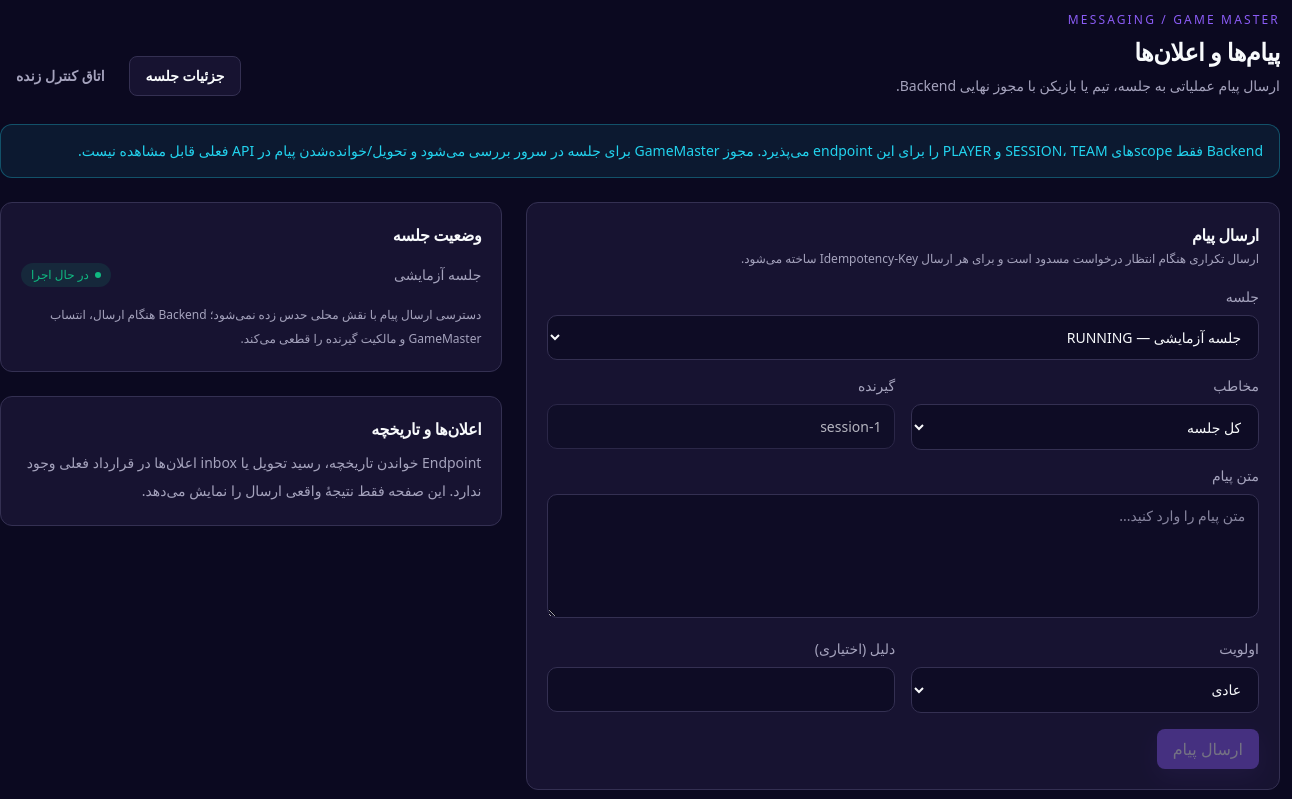
Scenario: messages center › loads only backend-provided team recipients and reports authorization failures
Expected: the text "جلسه آزمایشی" is shown, [394,265,481,285]
Select "تیم" in the dropdown named "نوع مخاطب" at (1085, 427), box [911,404,1259,450]
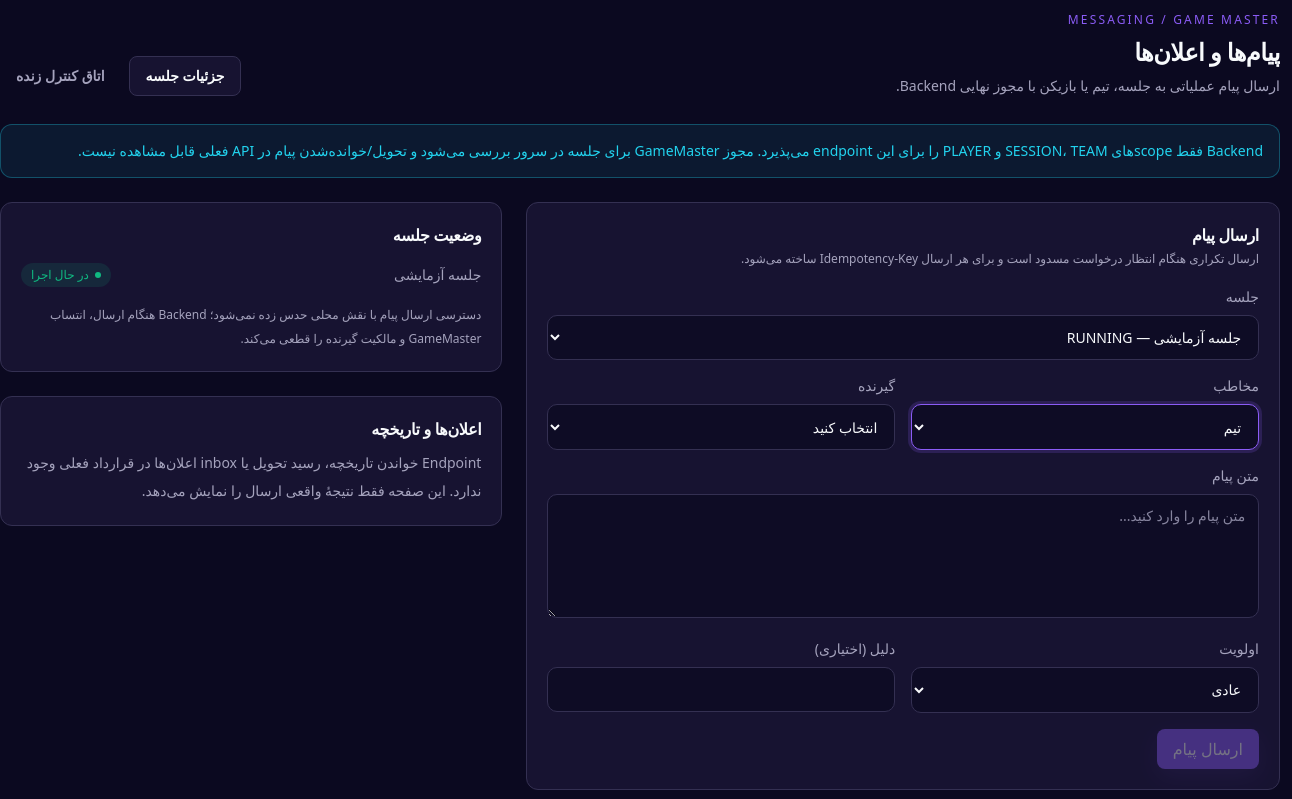
Select "تیم یک" in the dropdown named "گیرنده پیام" at (721, 427), box [547,404,895,450]
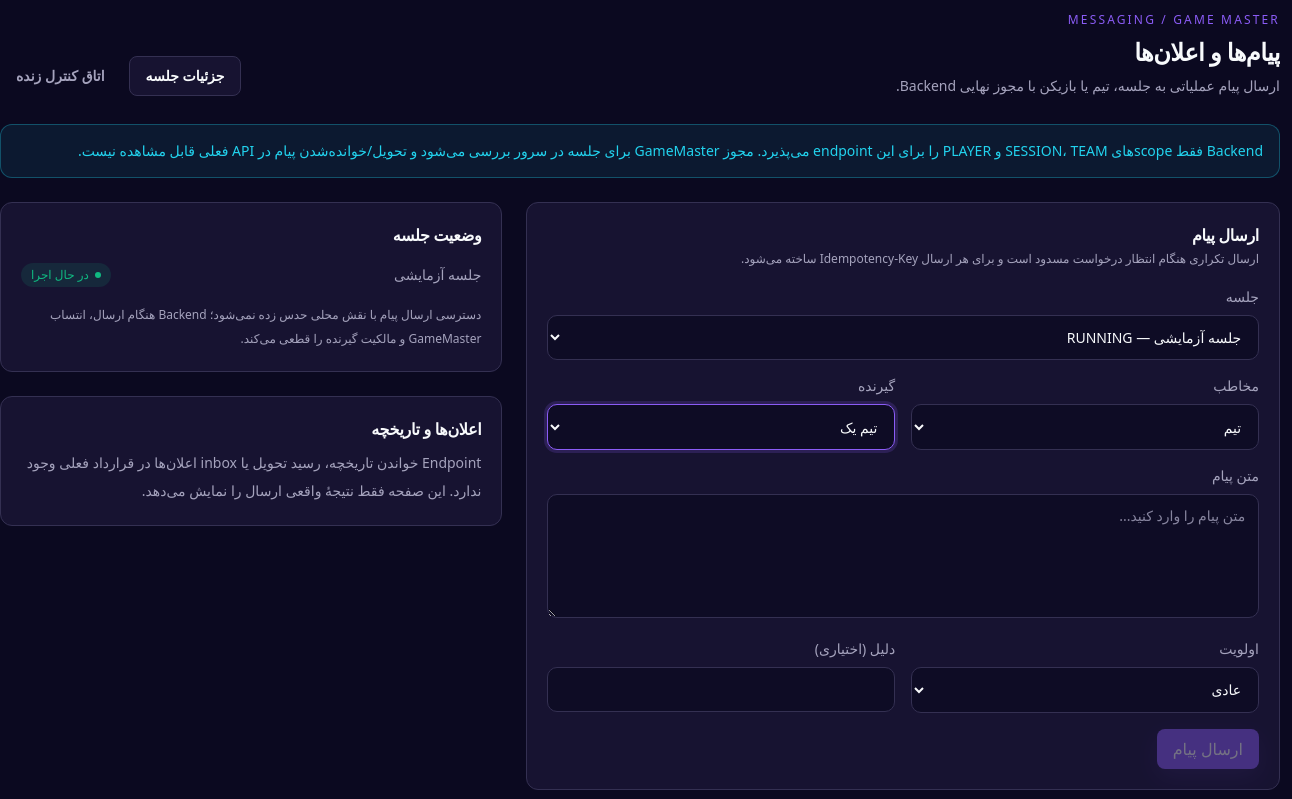
Type "پیام تیم" into the text box labelled "متن پیام" at (903, 556), box [547,494,1259,618]
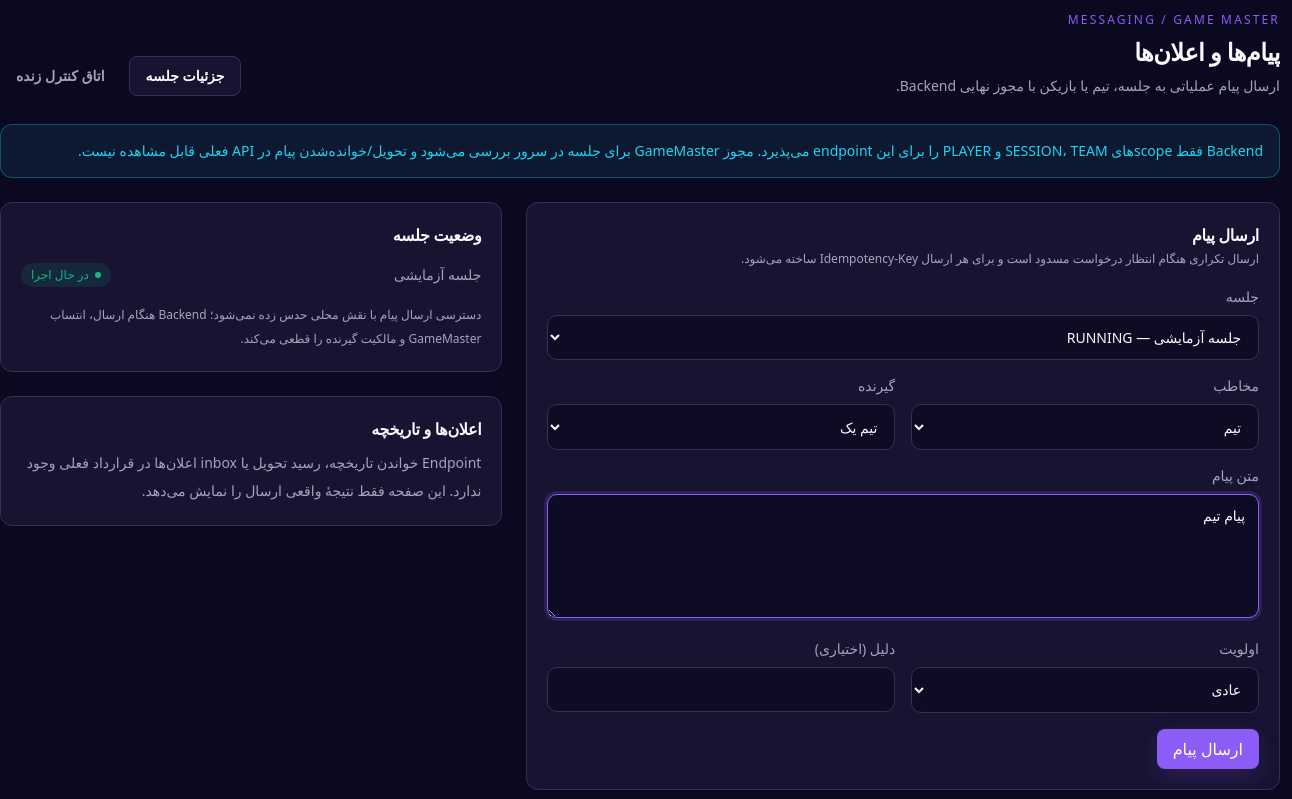
Click the button "ارسال پیام" at (1208, 748), box [1157,728,1259,768]
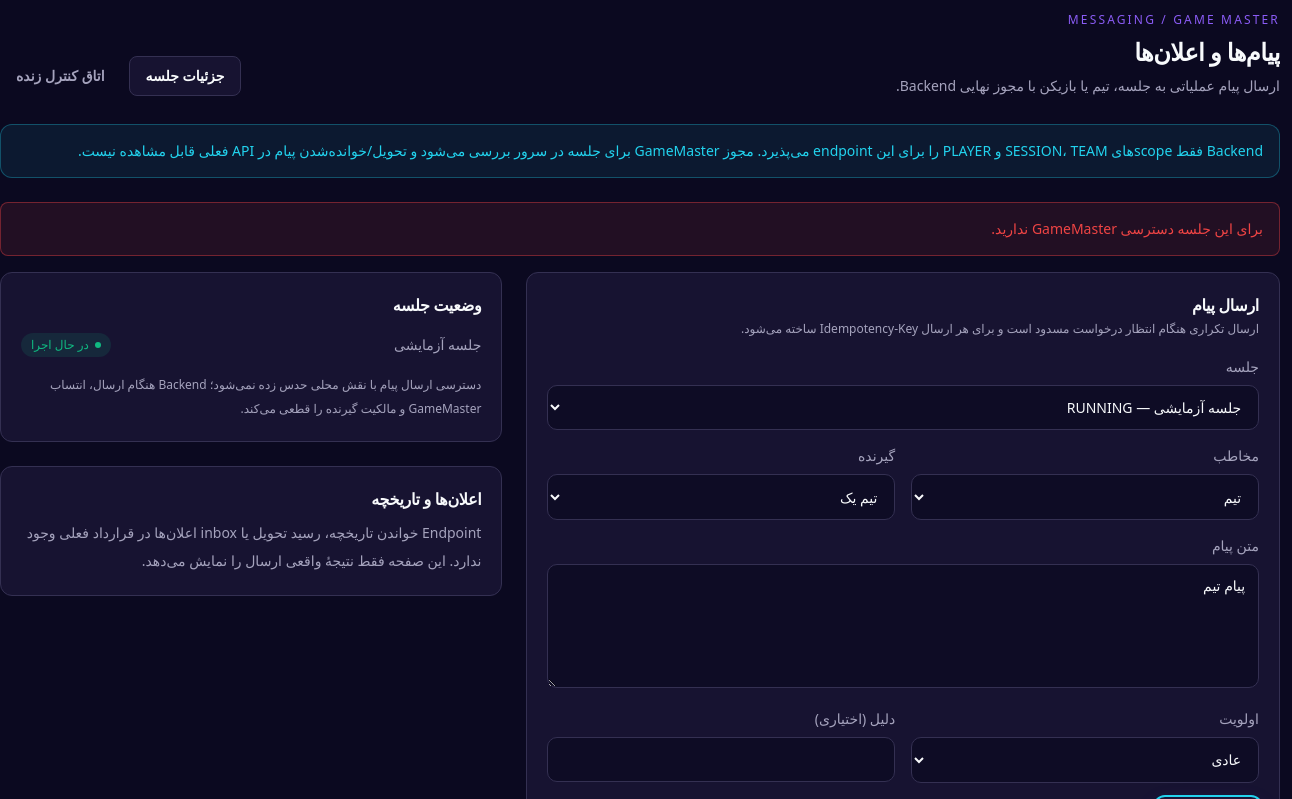
Result: the message shows "برای این جلسه دسترسی GameMaster ندارید" at [991,219,1263,238]
